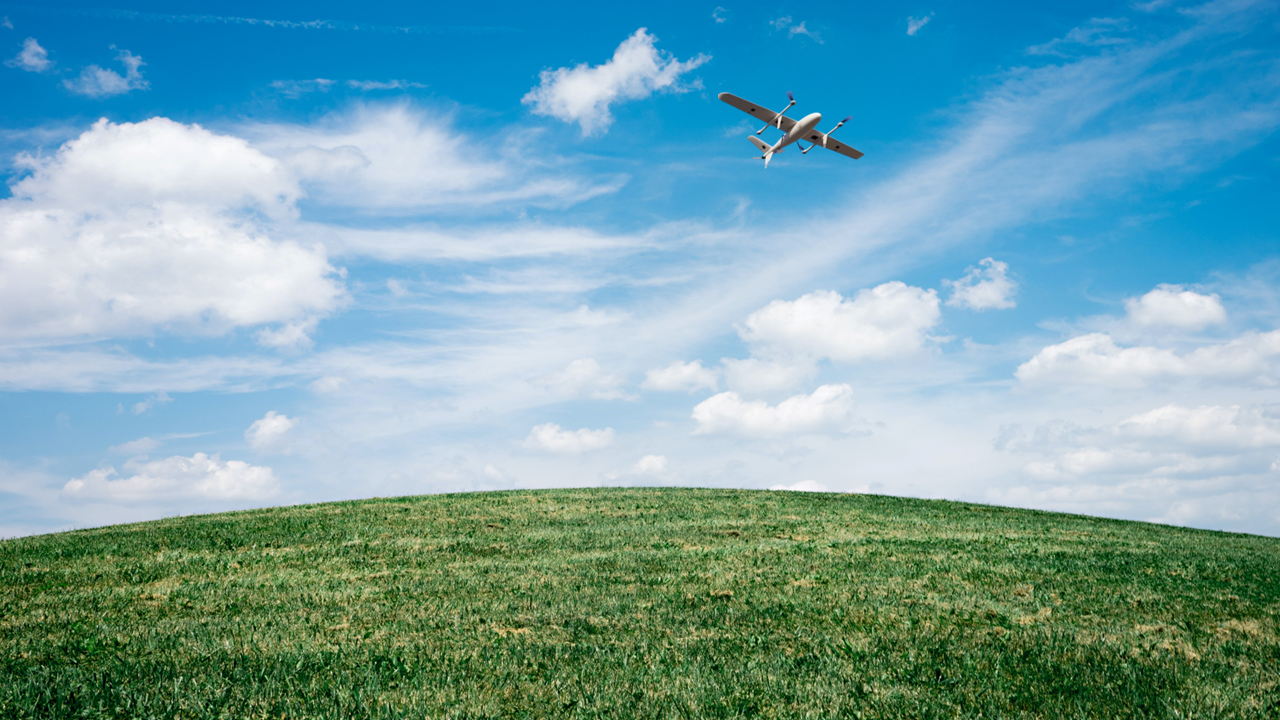military drone: (717, 89, 864, 168)
